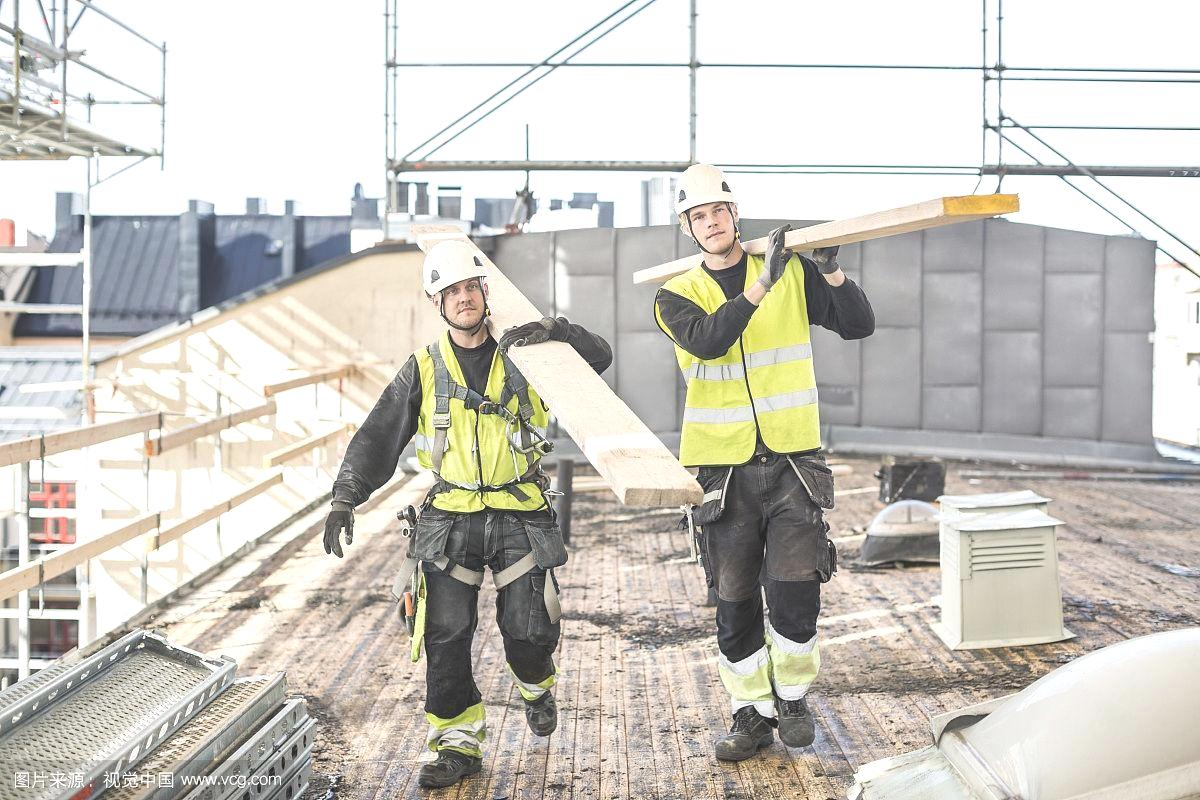helmet: (413, 239, 500, 305), (673, 169, 738, 233)
person: (641, 157, 847, 800), (375, 233, 578, 800)
